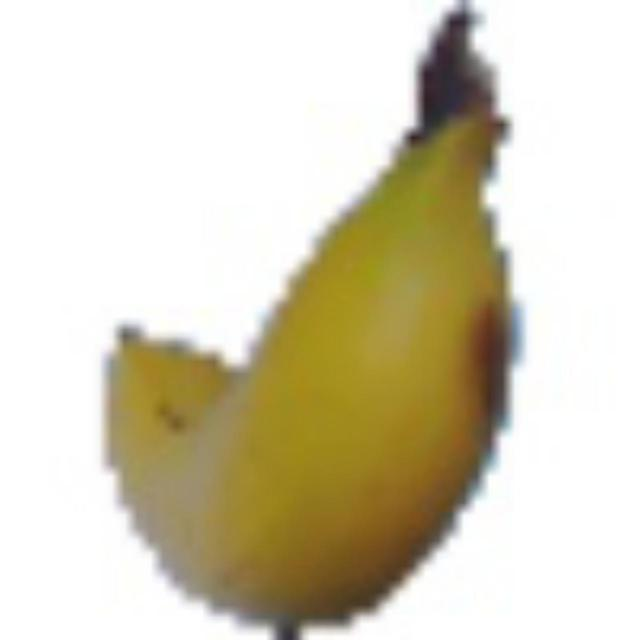banana: (70, 0, 514, 635)
